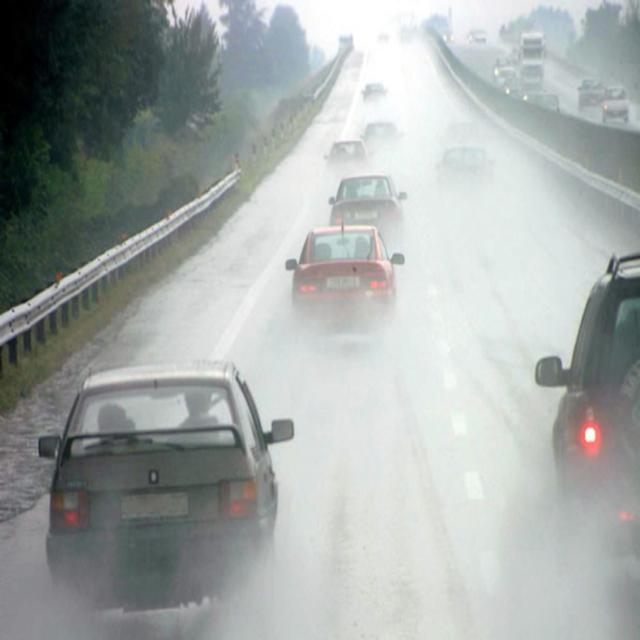bus: (520, 32, 542, 82)
car: (39, 367, 288, 585), (536, 250, 638, 599), (288, 222, 396, 329), (325, 176, 409, 231), (431, 147, 497, 194), (358, 120, 404, 155), (321, 140, 369, 171), (600, 85, 628, 118), (358, 80, 388, 104), (578, 77, 600, 109)
